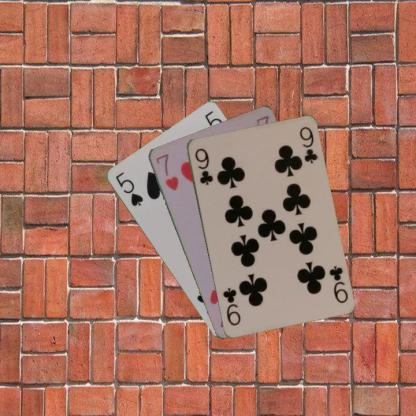5s: (112, 170, 145, 208)
7h: (152, 151, 180, 192)
9c: (326, 262, 349, 304), (192, 145, 214, 186)
